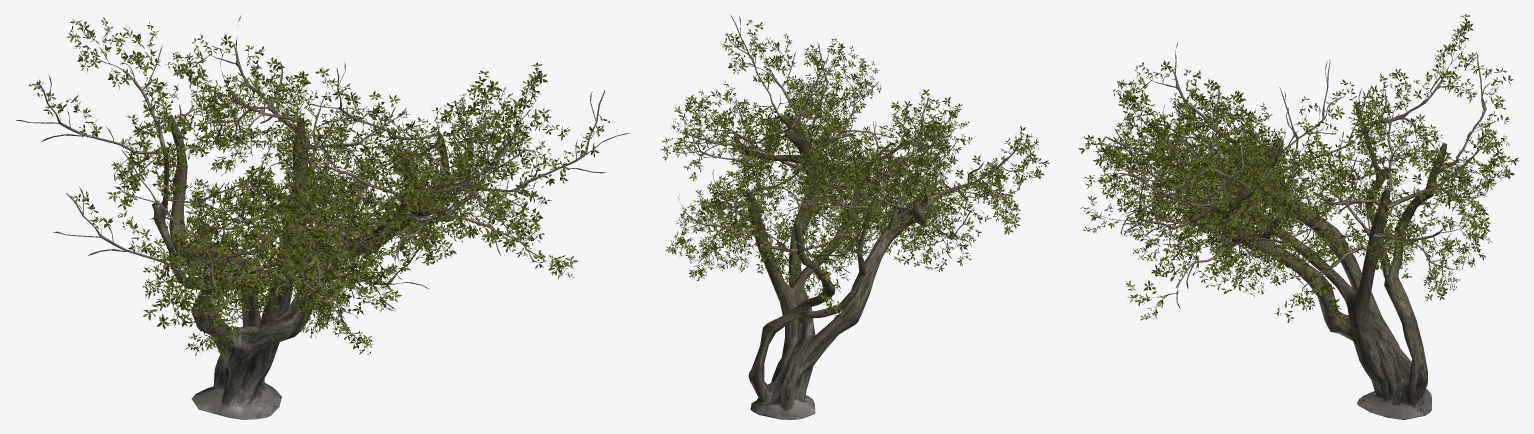
File: plaza-tree.glb
3 views of the same model, side by side, from view 1: azimuth 30°, elevation 25°; view 2: azimuth 150°, elevation 25°; view 3: azimuth 270°, elevation 25° (orthographic). The views are drawn at different scales.
Parts seen in each view (by area): view 1: island_tree_02_LOD0; view 2: island_tree_02_LOD0; view 3: island_tree_02_LOD0.
Part boxes in pixels (x1,y1,x2,y2): island_tree_02_LOD0: (16,15,630,419); island_tree_02_LOD0: (660,14,1049,419); island_tree_02_LOD0: (1078,14,1518,419).
Bounding box in the file's own units: 4.21 × 3.41 × 4.07.
3 materials, 3 textured.
